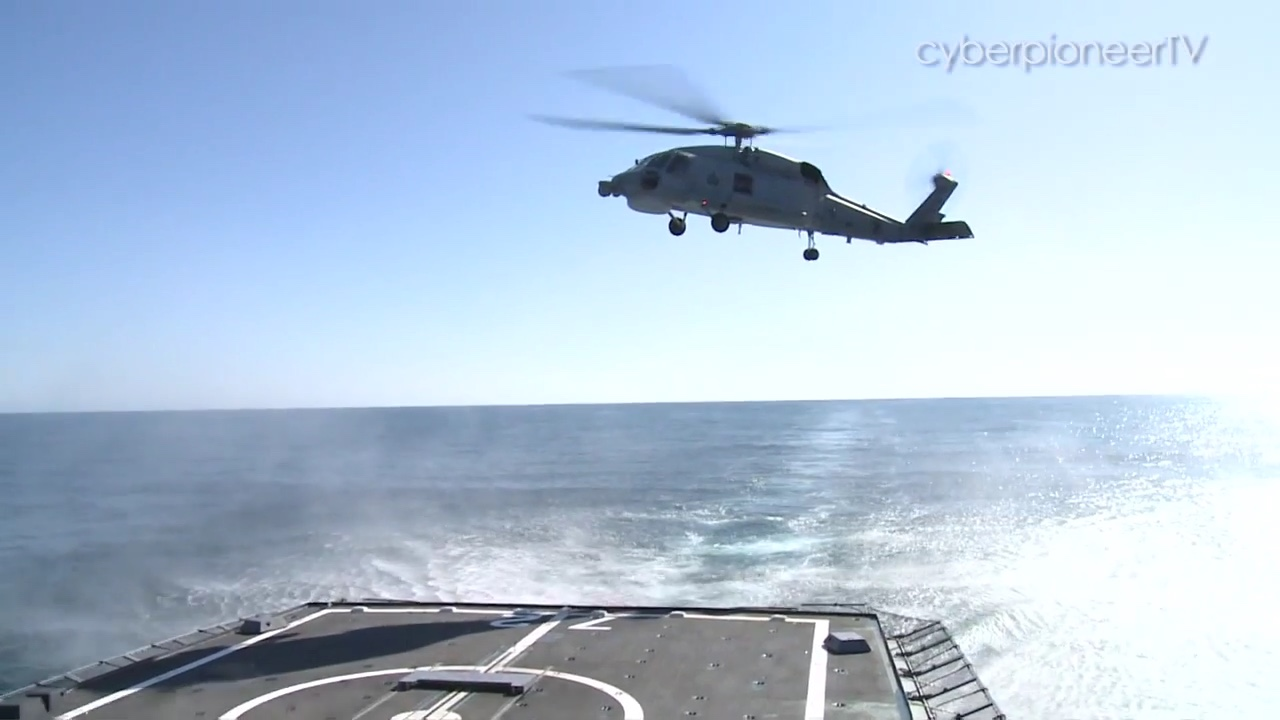seahawk: (526, 64, 984, 265)
